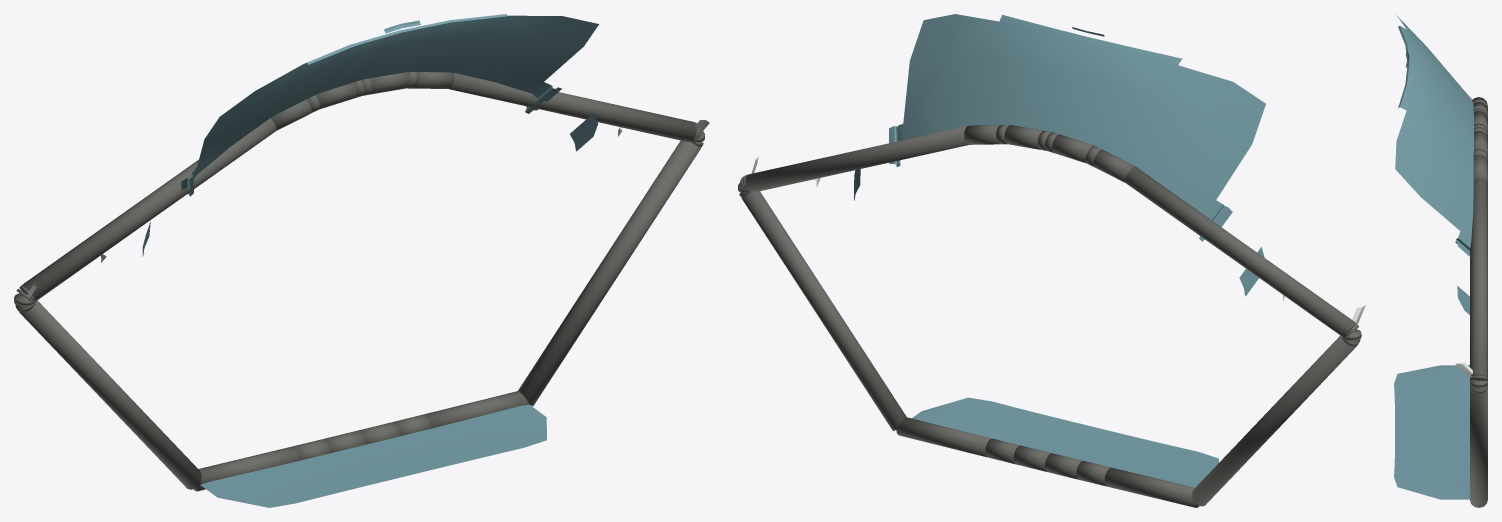
The model's file is PART_009_RearEngineOpening.glb.
3 views of the same model, side by side, from view 1: azimuth 30°, elevation 25°; view 2: azimuth 150°, elevation 25°; view 3: azimuth 270°, elevation 25° (orthographic). The views are drawn at different scales.
Parts seen in each view (by area): view 1: BODY_BajaPartialDeck_B_Body_Engine_Lid_Rear_0, BODY_BajaPartialDeck_B_Body_Tail_Rear_0, BODY_EngineOpeningRail_7, BODY_EngineOpeningRail_26, BODY_EngineOpeningRail_0, BODY_EngineOpeningRail_17, BODY_EngineOpeningRail_1, BODY_EngineOpeningRail_6; view 2: BODY_BajaPartialDeck_B_Body_Engine_Lid_Rear_0, BODY_BajaPartialDeck_B_Body_Tail_Rear_0, BODY_EngineOpeningRail_7, BODY_EngineOpeningRail_26, BODY_EngineOpeningRail_17, BODY_EngineOpeningRail_0, BODY_EngineOpeningRail_1, BODY_EngineOpeningRail_6, BODY_EngineOpeningRail_25, BODY_EngineOpeningRail_23, BODY_EngineOpeningRail_20; view 3: BODY_BajaPartialDeck_B_Body_Engine_Lid_Rear_0, BODY_BajaPartialDeck_B_Body_Tail_Rear_0, BODY_EngineOpeningRail_17, BODY_EngineOpeningRail_7, BODY_EngineOpeningRail_18, BODY_EngineOpeningRail_20, BODY_EngineOpeningRail_23, BODY_BajaPartialDeck_B_Body_Tail_Rear_1.
Part boxes in pixels (box(x1,y1,x2,y2)): BODY_BajaPartialDeck_B_Body_Engine_Lid_Rear_0: box(181, 14, 598, 196); BODY_BajaPartialDeck_B_Body_Tail_Rear_0: box(142, 113, 597, 507); BODY_EngineOpeningRail_7: box(518, 140, 700, 406); BODY_EngineOpeningRail_26: box(22, 118, 276, 301); BODY_EngineOpeningRail_0: box(19, 300, 201, 489); BODY_EngineOpeningRail_17: box(449, 73, 696, 141); BODY_EngineOpeningRail_1: box(193, 447, 298, 491); BODY_EngineOpeningRail_6: box(423, 391, 529, 428); BODY_BajaPartialDeck_B_Body_Engine_Lid_Rear_0: box(889, 14, 1265, 241); BODY_BajaPartialDeck_B_Body_Tail_Rear_0: box(854, 169, 1264, 487); BODY_EngineOpeningRail_7: box(741, 191, 906, 430); BODY_EngineOpeningRail_26: box(1124, 166, 1353, 335); BODY_EngineOpeningRail_17: box(745, 125, 968, 192); BODY_EngineOpeningRail_0: box(1192, 335, 1356, 506); BODY_EngineOpeningRail_1: box(1104, 467, 1199, 507); BODY_EngineOpeningRail_6: box(896, 417, 991, 457); BODY_EngineOpeningRail_25: box(1093, 149, 1134, 182); BODY_EngineOpeningRail_23: box(1052, 134, 1093, 162); BODY_EngineOpeningRail_20: box(1004, 125, 1043, 149); BODY_BajaPartialDeck_B_Body_Engine_Lid_Rear_0: box(1395, 15, 1473, 256); BODY_BajaPartialDeck_B_Body_Tail_Rear_0: box(1394, 286, 1469, 499); BODY_EngineOpeningRail_17: box(1470, 177, 1487, 375); BODY_EngineOpeningRail_7: box(1470, 387, 1487, 507); BODY_EngineOpeningRail_18: box(1473, 154, 1487, 182); BODY_EngineOpeningRail_20: box(1474, 130, 1487, 154); BODY_EngineOpeningRail_23: box(1474, 110, 1487, 130); BODY_BajaPartialDeck_B_Body_Tail_Rear_1: box(1455, 91, 1476, 380).
Size of the model in its own units: 1.32 by 0.8393 by 0.1865.
